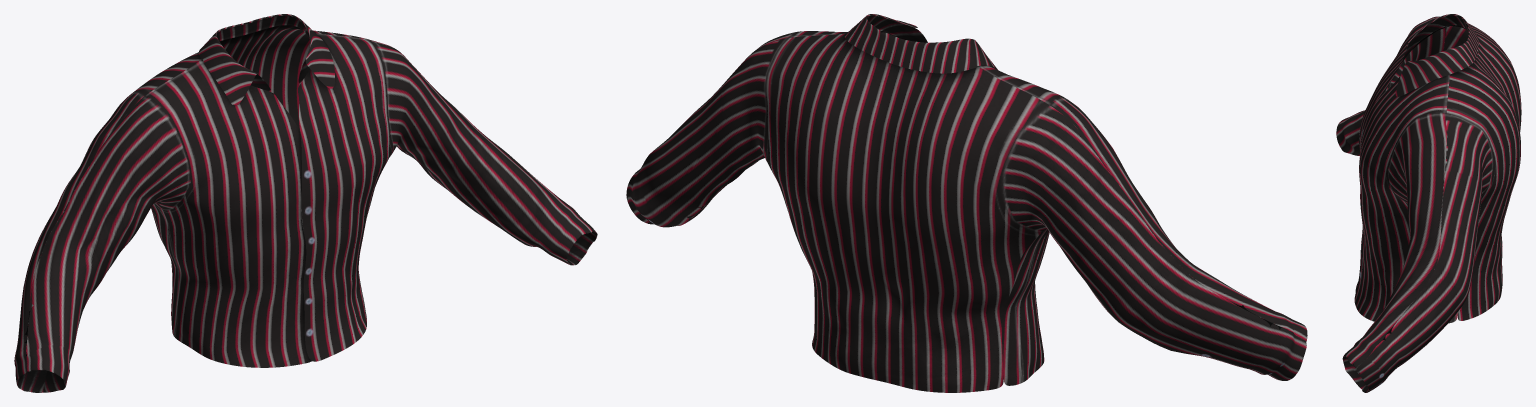
File: LXS_XLM.dae
3 views of the same model, side by side, from view 1: azimuth 30°, elevation 25°; view 2: azimuth 150°, elevation 25°; view 3: azimuth 270°, elevation 25° (orthographic). The views are drawn at different scales.
Parts seen in each view (by area): view 1: longshirt; view 2: longshirt; view 3: longshirt.
Boxes of the visible parts, x1,y1,x2,y2 form: longshirt: [14, 14, 597, 392]; longshirt: [626, 14, 1307, 392]; longshirt: [1336, 14, 1521, 392].
Size of the model in its own units: 10.18 by 5.03 by 3.14.
